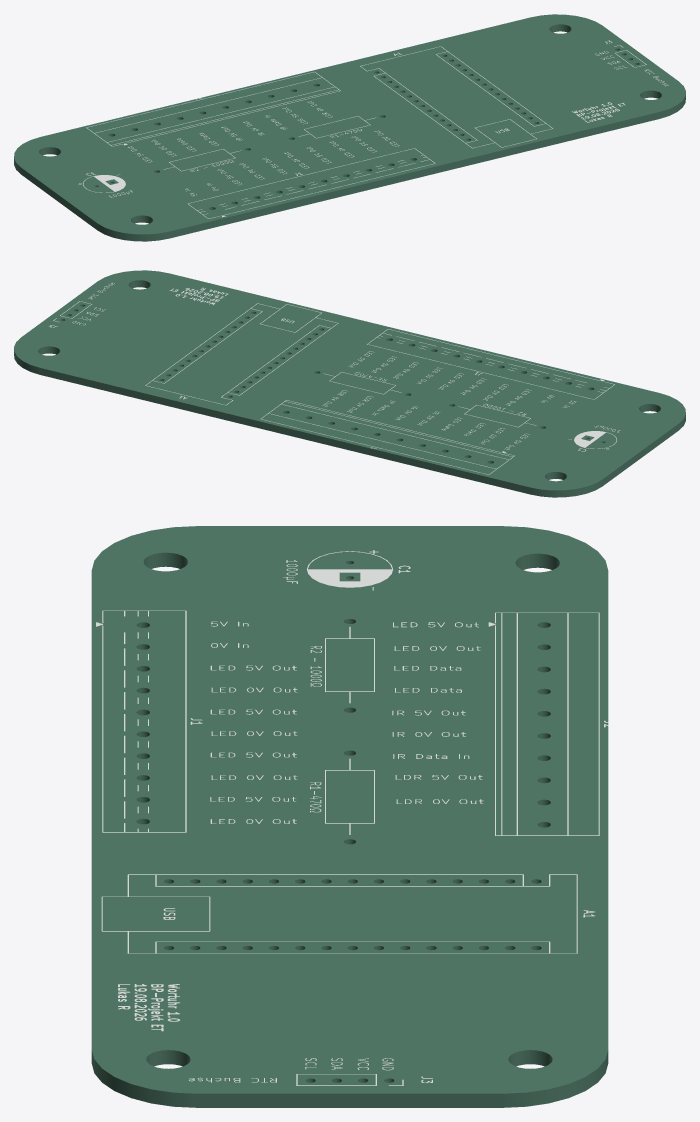
The model's file is leiterplatte.glb.
3 views of the same model, one above another, from view 1: azimuth 30°, elevation 25°; view 2: azimuth 150°, elevation 25°; view 3: azimuth 270°, elevation 25° (orthographic). The views are drawn at different scales.
Parts seen in each view (by area): view 1: =>[0:1:1:3], =>[0:1:1:2]; view 2: =>[0:1:1:3], =>[0:1:1:2]; view 3: =>[0:1:1:3], =>[0:1:1:2].
Boxes of the visible parts, x1=… form: =>[0:1:1:3]: x1=14, y1=14, x2=685, y2=241; =>[0:1:1:2]: x1=78, y1=40, x2=668, y2=218; =>[0:1:1:3]: x1=14, y1=270, x2=685, y2=497; =>[0:1:1:2]: x1=49, y1=282, x2=620, y2=474; =>[0:1:1:3]: x1=91, y1=526, x2=608, y2=1107; =>[0:1:1:2]: x1=96, y1=550, x2=608, y2=1085.
Size of the model in its own units: 0.13 by 0.00158 by 0.05.
